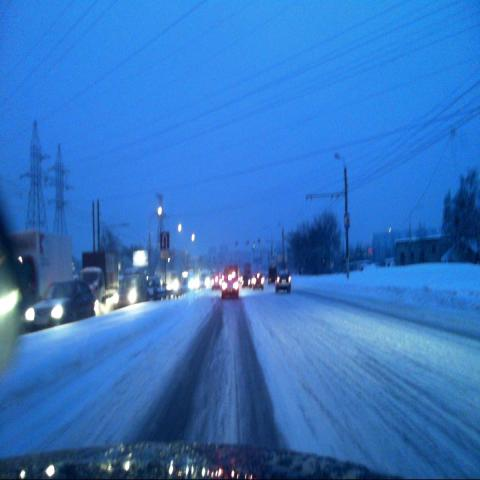6_3_1: (160, 231, 171, 251)
